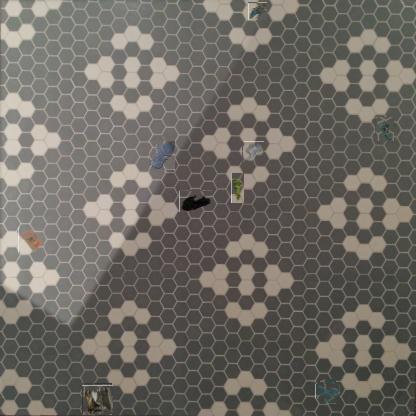dirty: (82, 384, 113, 415), (179, 190, 212, 212), (18, 227, 45, 253), (374, 118, 396, 140), (242, 141, 264, 162), (231, 173, 244, 203), (248, 2, 267, 20)
liquid: (149, 142, 175, 172), (318, 381, 338, 402)
